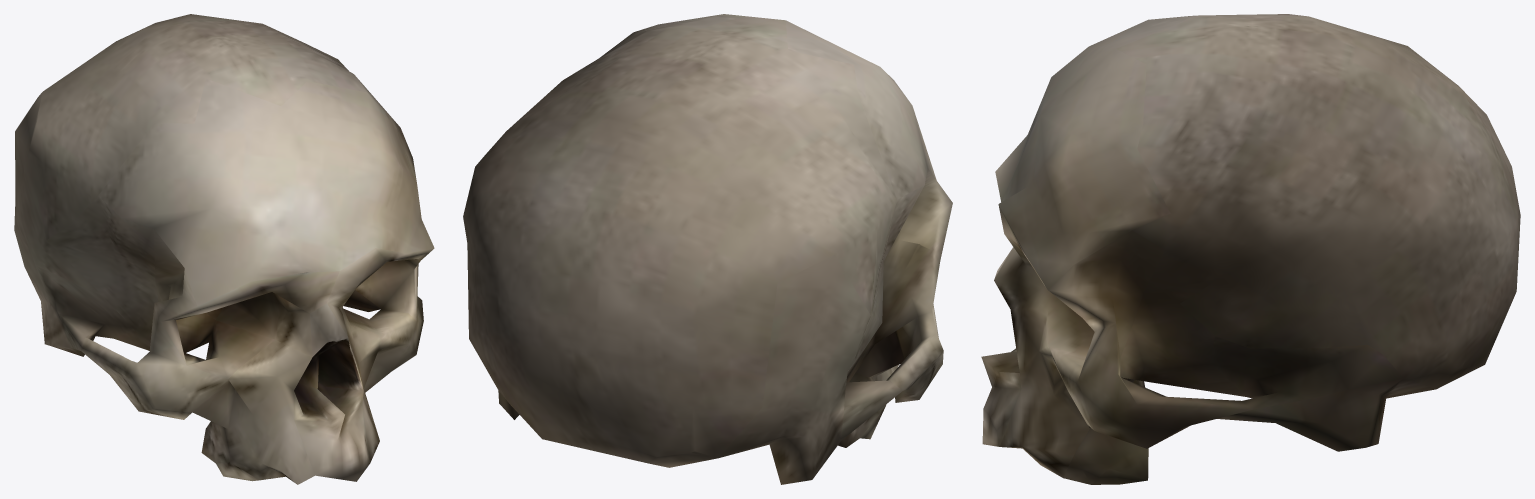
File: skull_01.glb
3 views of the same model, side by side, from view 1: azimuth 30°, elevation 25°; view 2: azimuth 150°, elevation 25°; view 3: azimuth 270°, elevation 25° (orthographic). The views are drawn at different scales.
Parts seen in each view (by area): view 1: skull_01; view 2: skull_01; view 3: skull_01.
Boxes of the visible parts, x1,y1,x2,y2 form: skull_01: (14,14,434,484); skull_01: (463,14,952,484); skull_01: (981,14,1520,484).
Size of the model in its own units: 0.1574 by 0.1772 by 0.205.
Materials: 1 (1 with a texture image).
